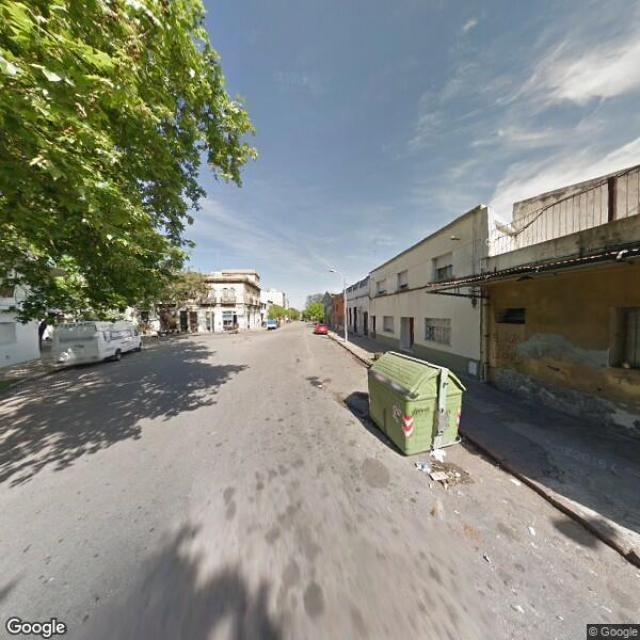garbage container: (351, 342, 472, 472)
